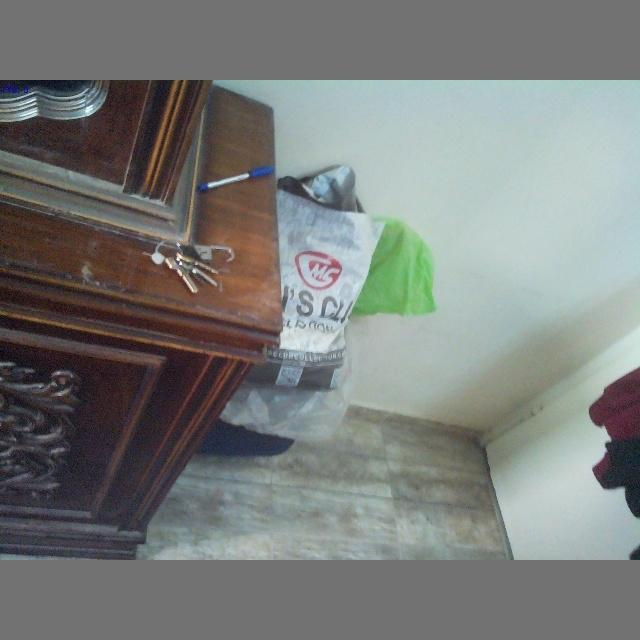Keys: (149, 234, 243, 304)
